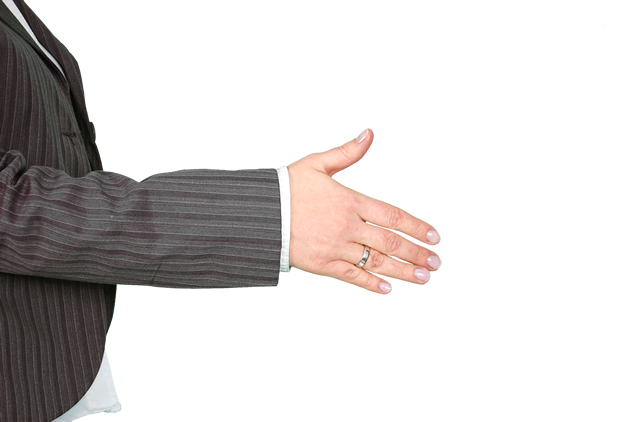no-phone: (270, 116, 457, 313)
